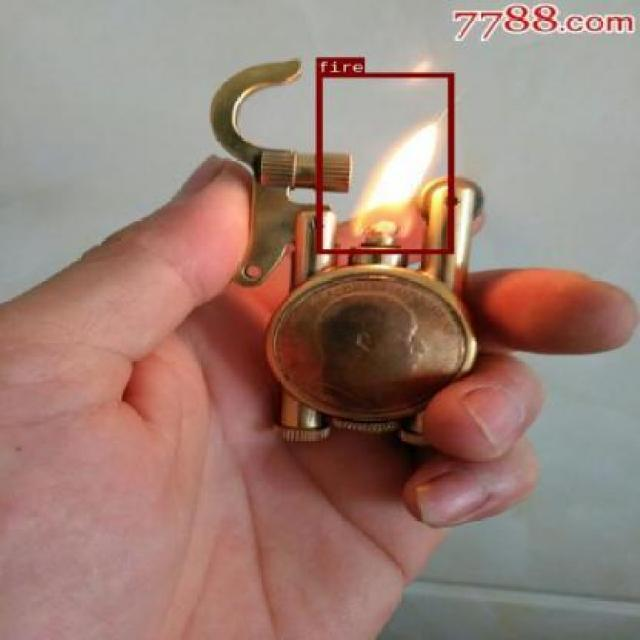fire: (315, 72, 453, 252)
